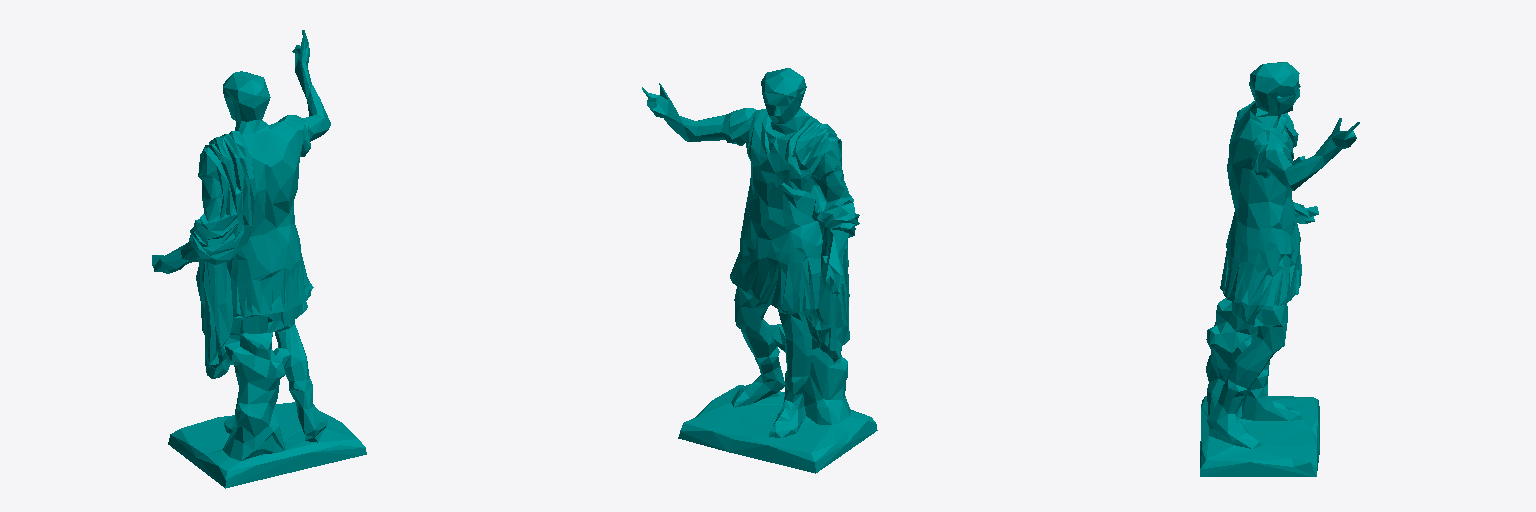
The model's file is trajan_polygonal_statue.obj.
3 views of the same model, side by side, from view 1: azimuth 30°, elevation 25°; view 2: azimuth 150°, elevation 25°; view 3: azimuth 270°, elevation 25° (orthographic).
Visible parts, largest first — view 1: trajna_mmGroup0-reduced1.007; view 2: trajna_mmGroup0-reduced1.007; view 3: trajna_mmGroup0-reduced1.007.
Boxes of the visible parts, x1,y1,x2,y2 form: trajna_mmGroup0-reduced1.007: [152, 30, 366, 488]; trajna_mmGroup0-reduced1.007: [642, 68, 877, 473]; trajna_mmGroup0-reduced1.007: [1200, 62, 1359, 476].
Bounding box in the file's own units: 48.64 × 99.31 × 38.74.